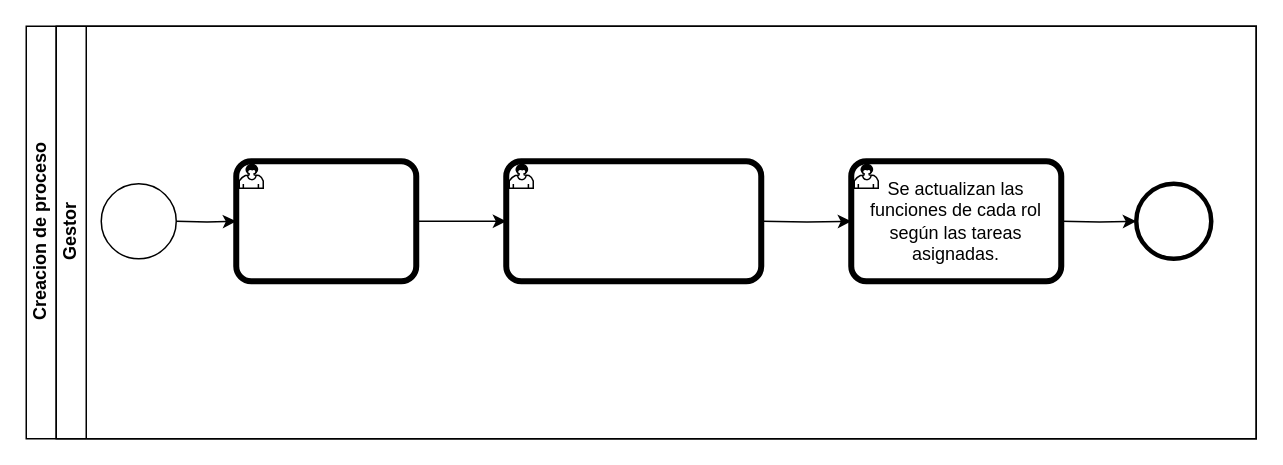
Image size: 1283x465. Some labels were removed from this diagram. The centre of each missing label's shape, as x and y in pixels:
"Identificar tareas y asignar roles." belongs at [325,220].
"Se asignan los formatos a cada tarea especifica." belongs at [633,220].
